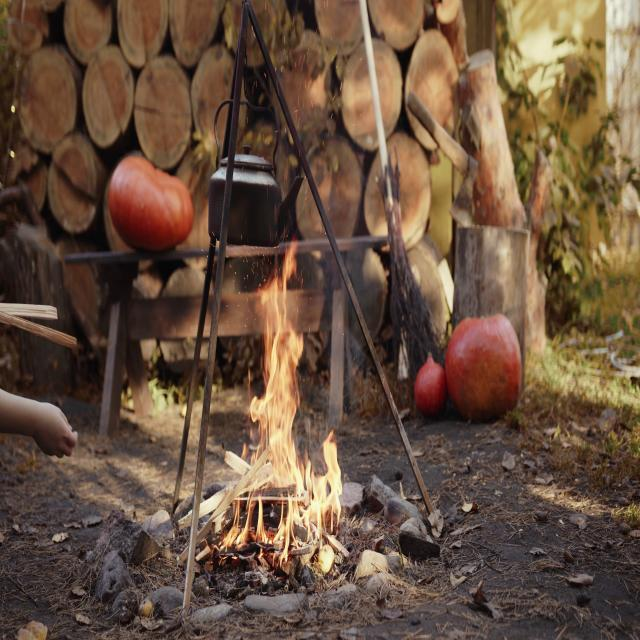Fire: (220, 223, 360, 578)
